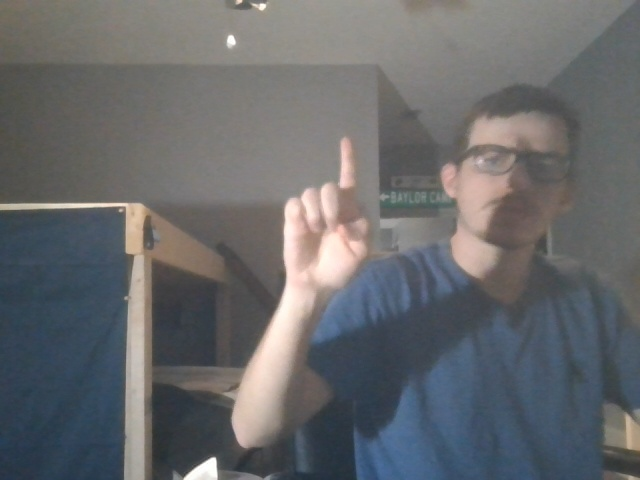D: (272, 133, 384, 298)
